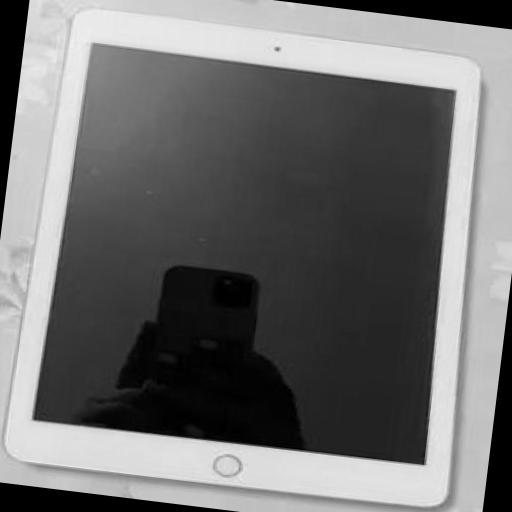phone: (1, 7, 487, 512)
